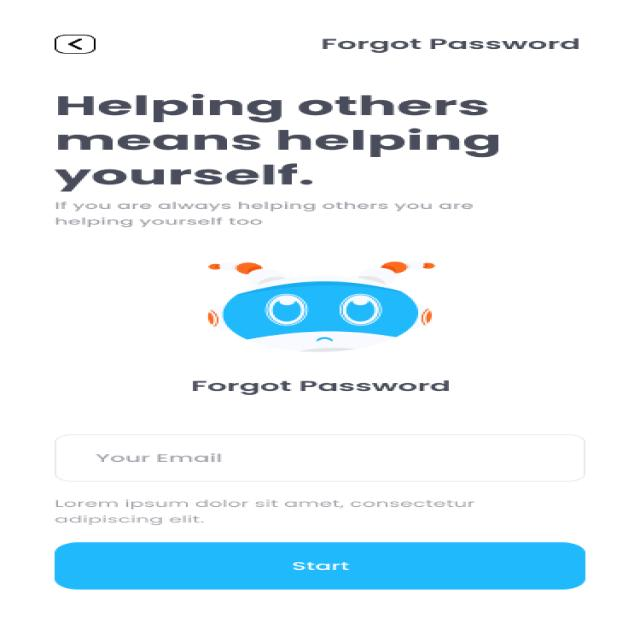button: (21, 528, 610, 604)
column: (9, 70, 626, 632)
icon button: (43, 28, 114, 61)
input: (26, 416, 607, 496)
text: (23, 83, 598, 230), (296, 26, 614, 60)
view: (146, 239, 498, 403)
